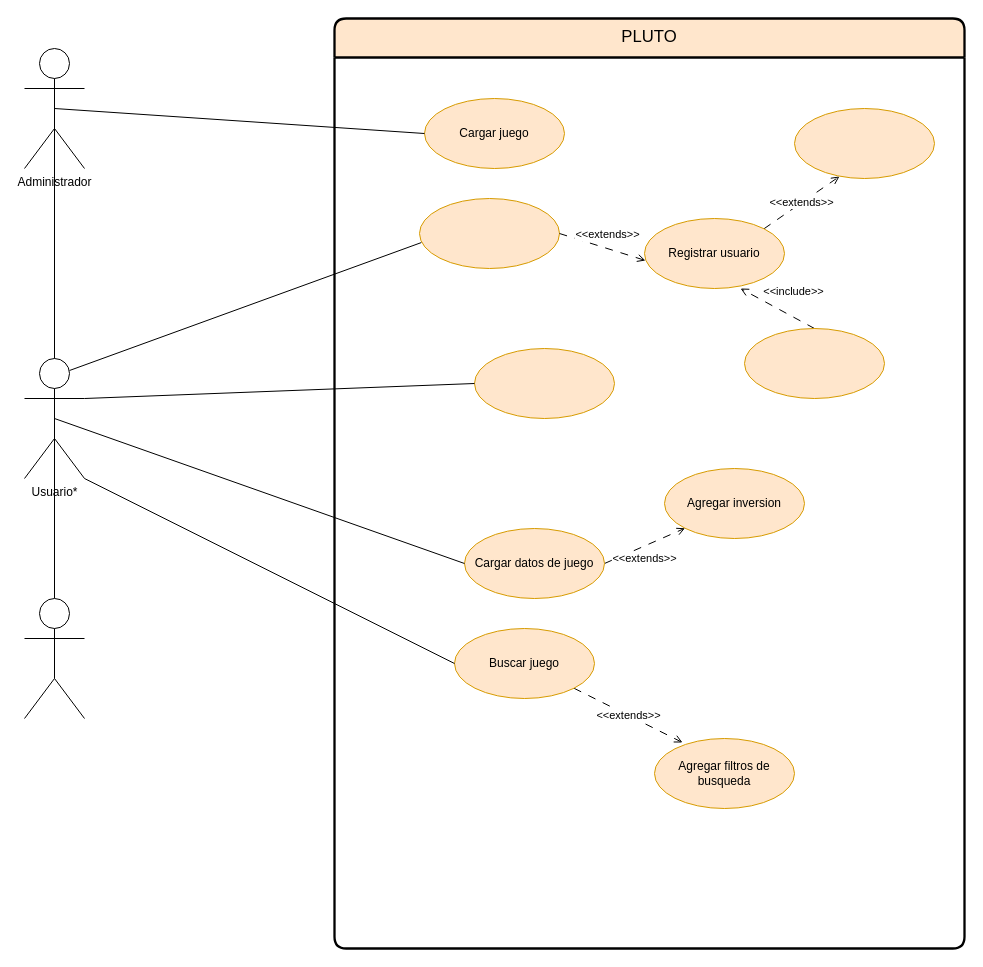
This 983x967 diagram has some shape labels left out. The centre of each missing label's shape, as x and y in pixels:
"Agregar datos de usuario" belongs at point 814,363.
"Conectar con redes sociales" belongs at point 864,143.
"Crear alertas" belongs at point 544,383.
"Logear usuario" belongs at point 489,233.
"Moderador" belongs at point 54,658.
